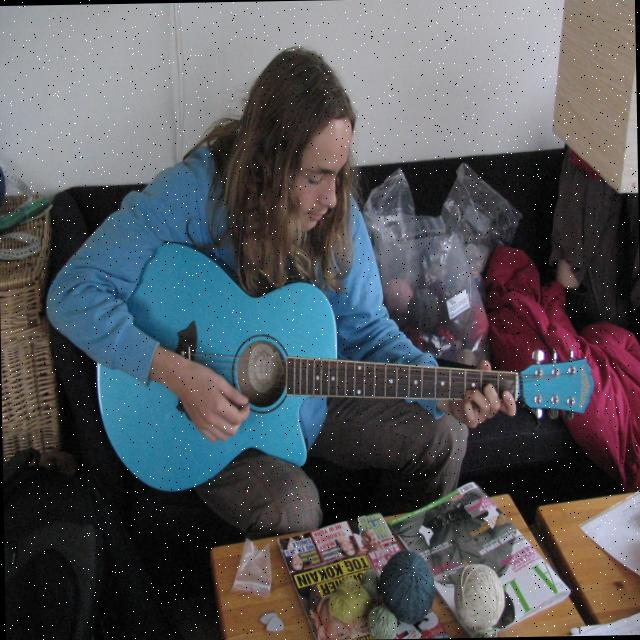guitar: (94, 234, 597, 499)
